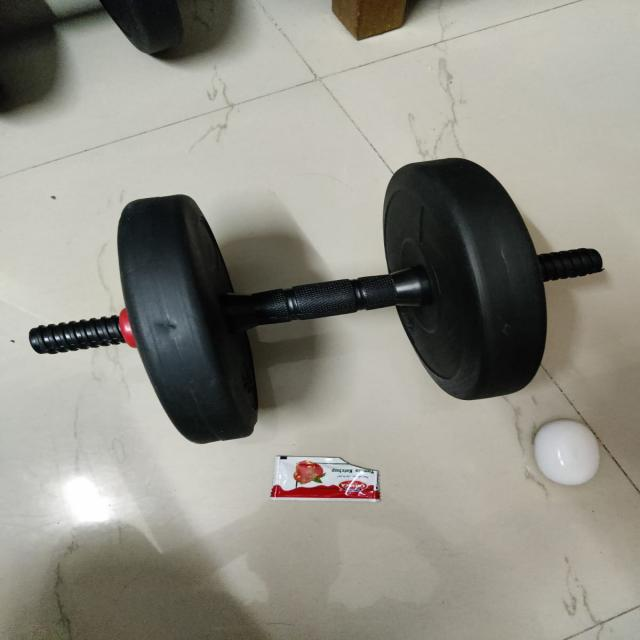metal: (27, 176, 621, 411)
plastic: (244, 432, 406, 531), (509, 420, 624, 500)
